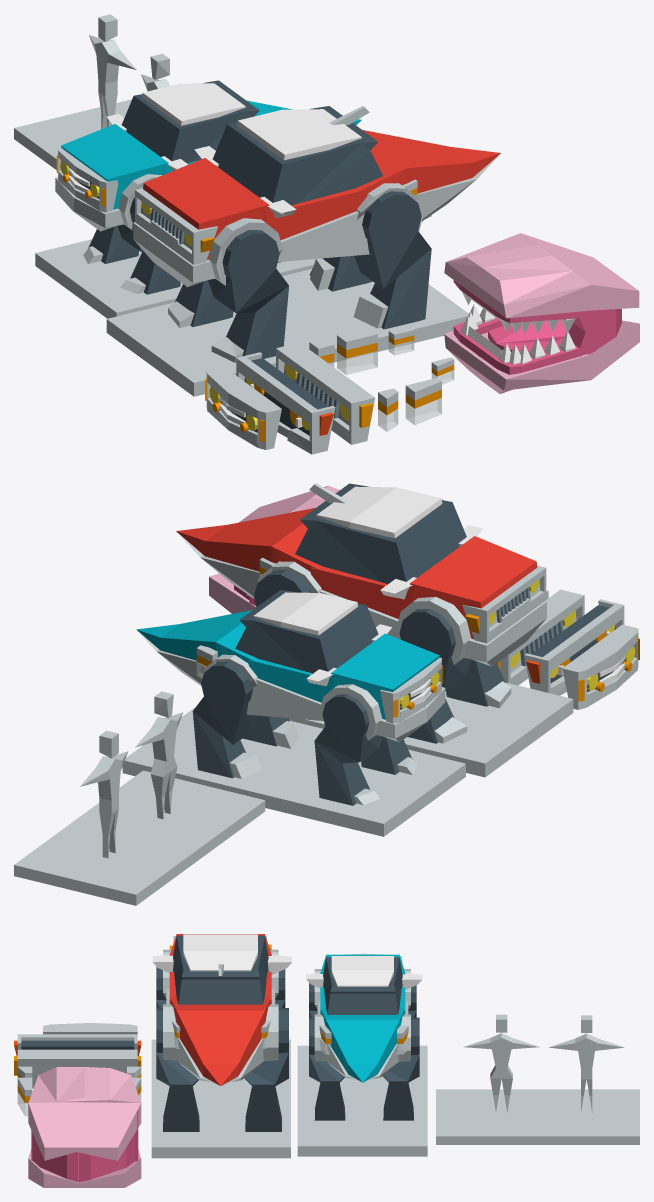
Rendered from metasaur_2.0_-_modified.glb.
3 renders of one model, top to bottom at view 1: azimuth 30°, elevation 25°; view 2: azimuth 150°, elevation 25°; view 3: azimuth 270°, elevation 25°, orthographic. The views are drawn at different scales.
Parts seen in each view (by area): view 1: group597057183, group1413649092, group2106048607, group1786648749, group2101794108, group770910531, group1063887197, group183881554, group756436616, group1180529392, group211862687, group1565294766 (+10 smaller); view 2: group597057183, group1413649092, group211862687, group2101794108, group1786648749, group183881554, group770910531, group1180529392, group1675837813, group1063887197, group620365461, group1309869927 (+1 smaller); view 3: group597057183, group1413649092, group211862687, group2106048607, group2101794108, group1786648749, group1063887197, group770910531, group1675837813, group620365461, group591551225, group183881554 (+3 smaller).
Part boxes in pixels (x1,y1,x2,y2): group597057183: (133, 106, 500, 362); group1413649092: (55, 80, 361, 294); group2106048607: (444, 233, 639, 393); group1786648749: (106, 269, 468, 396); group2101794108: (35, 239, 315, 318); group770910531: (236, 352, 335, 454); group1063887197: (276, 342, 374, 444); group183881554: (205, 365, 281, 449); group756436616: (337, 331, 441, 424); group1180529392: (135, 188, 217, 264); group211862687: (14, 99, 131, 169); group1565294766: (453, 317, 595, 374); group597057183: (176, 483, 546, 743); group1413649092: (136, 590, 445, 805); group211862687: (14, 770, 265, 905); group2101794108: (122, 707, 465, 836); group1786648749: (288, 682, 573, 777); group183881554: (562, 624, 639, 709); group770910531: (524, 599, 624, 695); group1180529392: (462, 565, 546, 643); group1675837813: (135, 691, 183, 819); group1063887197: (497, 589, 584, 685); group620365461: (80, 730, 128, 858); group1309869927: (380, 657, 443, 723); group597057183: (152, 934, 291, 1131); group1413649092: (306, 954, 422, 1120); group211862687: (436, 1089, 639, 1144); group2106048607: (28, 1067, 141, 1187); group2101794108: (297, 1045, 427, 1156); group1786648749: (151, 1039, 290, 1158); group1063887197: (14, 1049, 141, 1088); group770910531: (14, 1034, 141, 1055); group1675837813: (463, 1014, 539, 1112); group620365461: (548, 1015, 624, 1112); group591551225: (79, 1134, 134, 1182); group183881554: (43, 1023, 137, 1034).
Bounding box in the file's own units: 1.19 × 0.6528 × 2.11.
